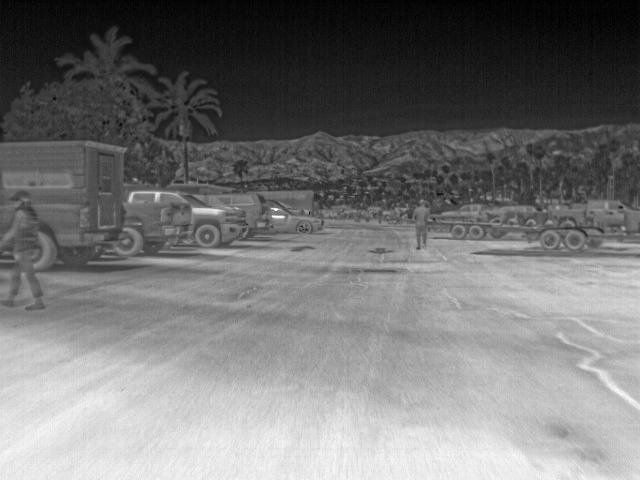car: (131, 190, 250, 250), (105, 194, 191, 258), (196, 194, 271, 234), (269, 209, 327, 235), (584, 200, 639, 221), (433, 204, 484, 222)
person: (4, 199, 58, 311), (413, 197, 432, 246)
